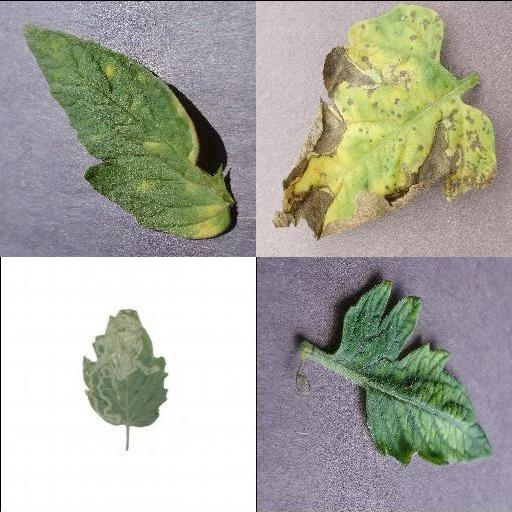Leaf Miner: (80, 307, 169, 427)
Leaf Mold: (24, 24, 234, 240)
Mosaic Virus: (337, 281, 497, 467)
Septoria: (274, 1, 498, 237)
